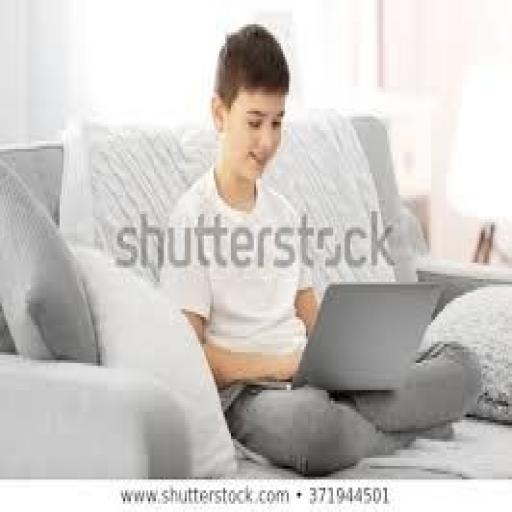using_laptop: (170, 208, 450, 428)
